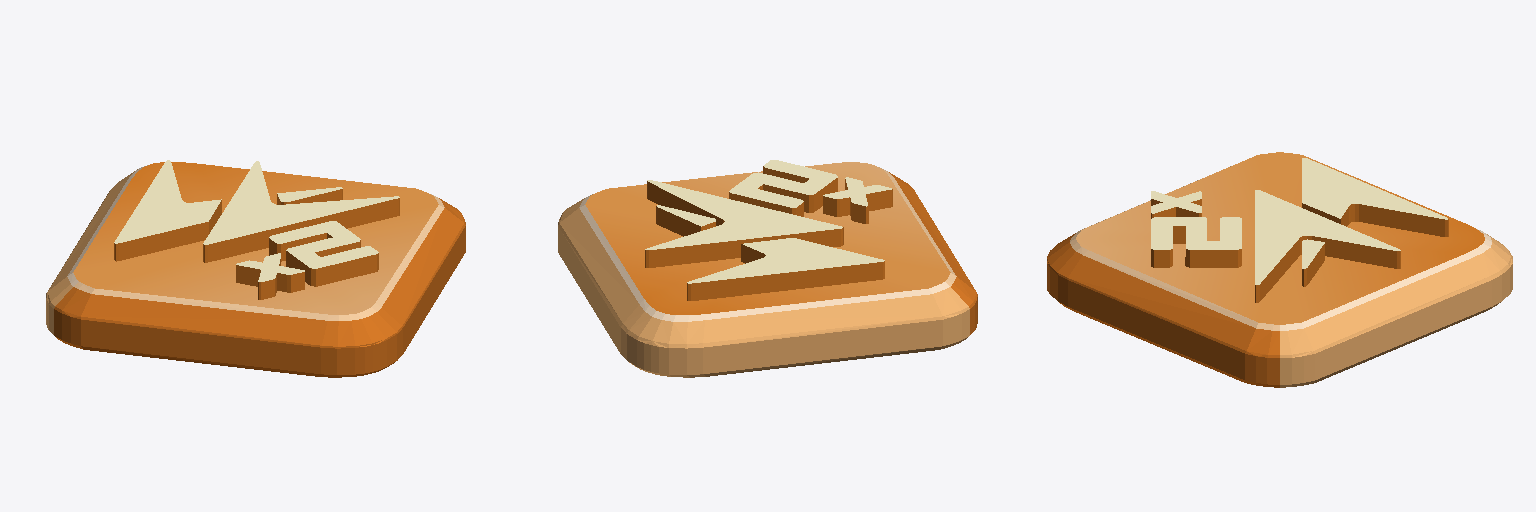
3 views of the same model, side by side, from view 1: azimuth 30°, elevation 25°; view 2: azimuth 150°, elevation 25°; view 3: azimuth 270°, elevation 25° (orthographic).
Parts seen in each view (by area): view 1: msWhackWhackStone; view 2: msWhackWhackStone; view 3: msWhackWhackStone.
Part boxes in pixels (left/top/right/bottom): msWhackWhackStone: left=46, top=160, right=465, bottom=377; msWhackWhackStone: left=558, top=160, right=977, bottom=377; msWhackWhackStone: left=1047, top=152, right=1512, bottom=387.
Bounding box in the file's own units: 8.98 × 1.5 × 8.98.
1 materials, 1 textured.